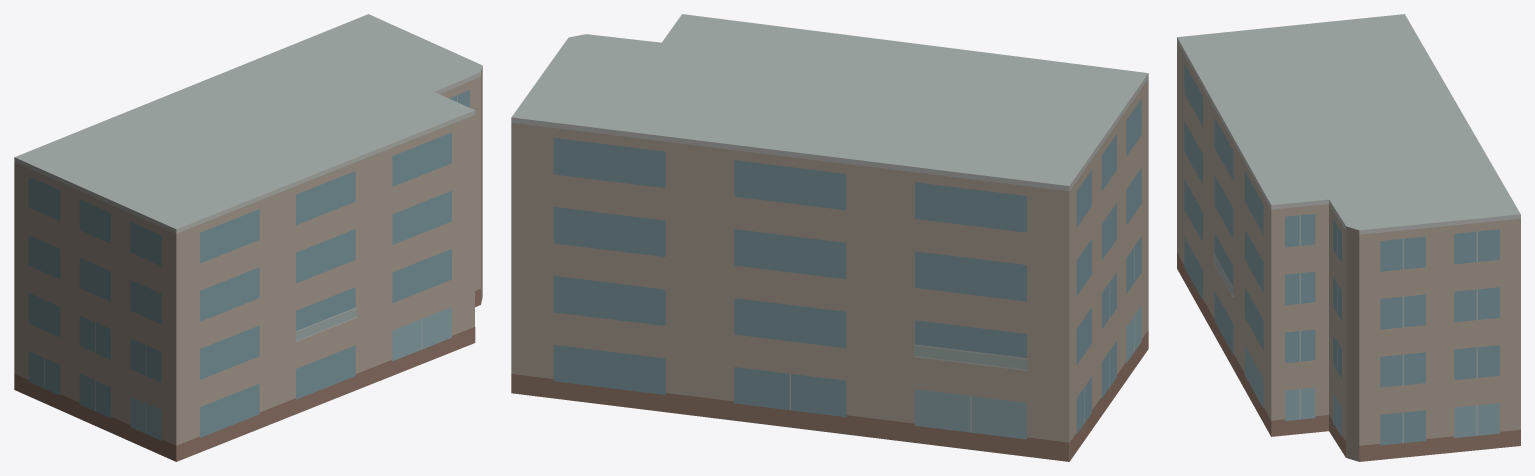
The model's file is survey-upis-32948924.glb.
3 views of the same model, side by side, from view 1: azimuth 30°, elevation 25°; view 2: azimuth 150°, elevation 25°; view 3: azimuth 270°, elevation 25° (orthographic). The views are drawn at different scales.
Visible parts, largest first — view 1: survey-upis-32948924.tmp; view 2: survey-upis-32948924.tmp; view 3: survey-upis-32948924.tmp.
Part boxes in pixels (x1,y1,x2,y2): survey-upis-32948924.tmp: (14, 14, 482, 461); survey-upis-32948924.tmp: (511, 14, 1148, 461); survey-upis-32948924.tmp: (1177, 14, 1520, 461).
Size of the model in its own units: 25.65 by 12.8 by 17.23.
